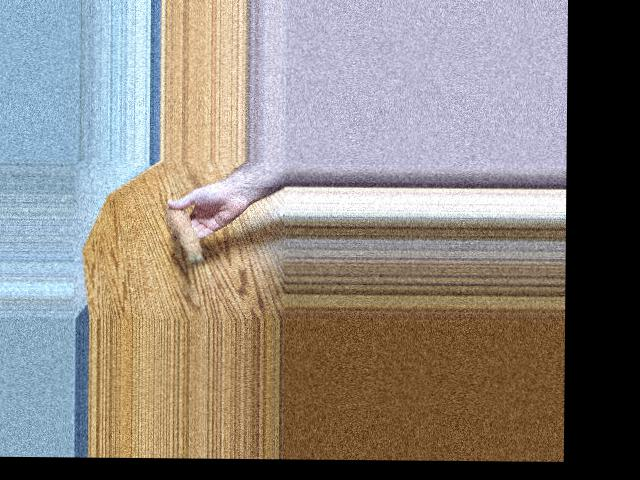sweet_potato: (165, 202, 206, 262)
